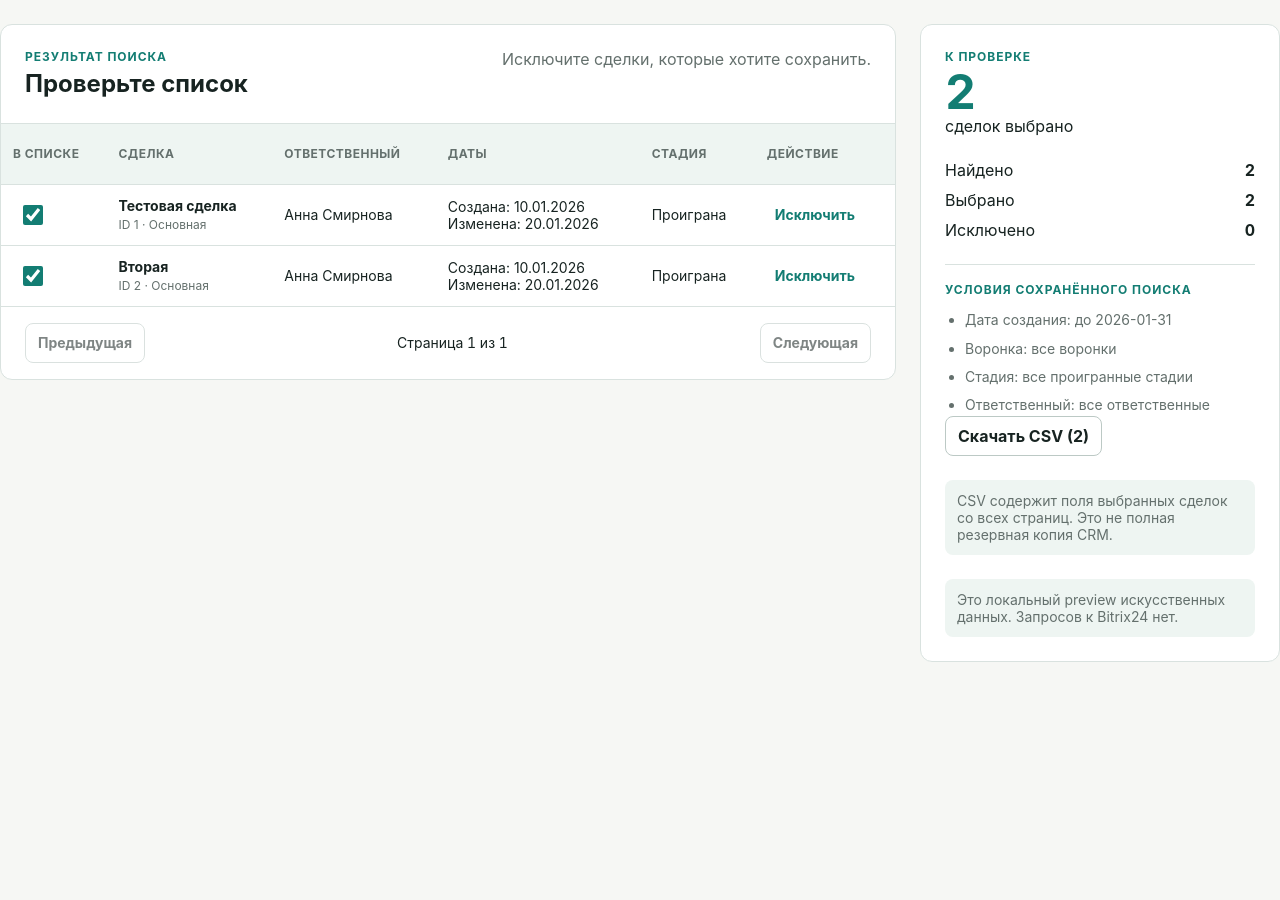
Test: DealPreview › excludes and restores a deal with exact result-wide counters
Expected: the element "Найдено 2" is shown, [945, 160, 1255, 180]
Expected: the element "Выбрано 2" is shown, [945, 190, 1255, 210]
Click the button with aria-label "Исключить Вторая". click: click(815, 276)
box: [767, 256, 863, 296]
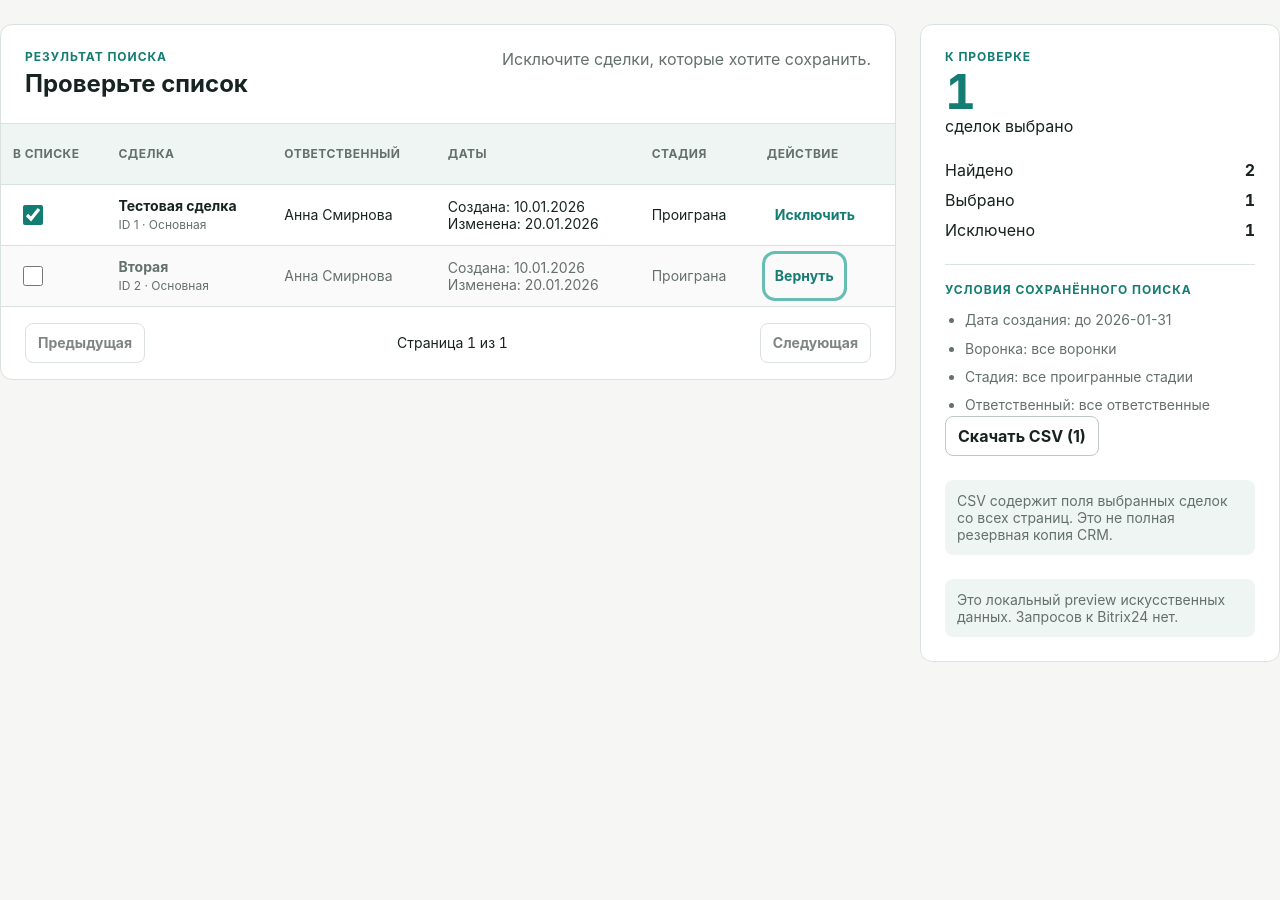
Result: the element "Выбрано 1" is shown at [945, 190, 1255, 210]
Result: the element "Исключено 1" is shown at [945, 220, 1255, 240]
Click the button with aria-label "Вернуть Вторая". click: click(804, 276)
box: [767, 256, 842, 296]
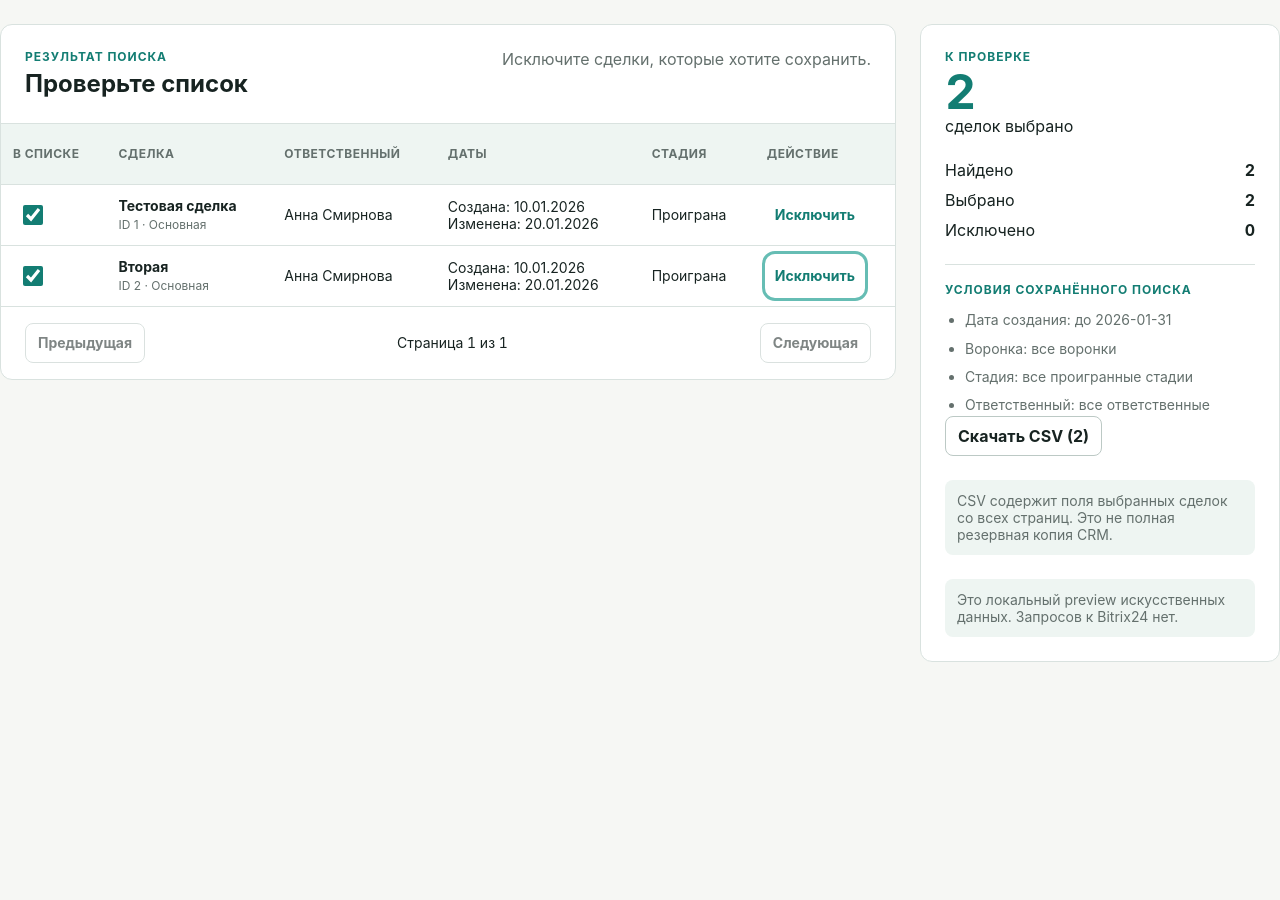
Result: the element "Выбрано 2" is shown at [945, 190, 1255, 210]
